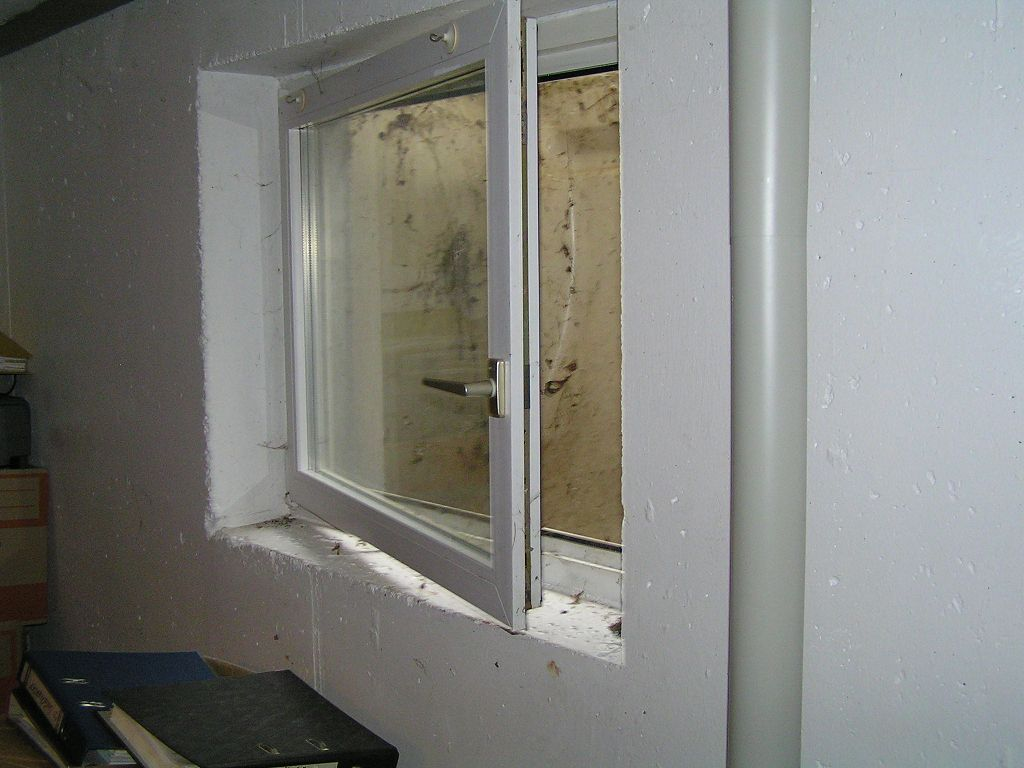windows: (256, 67, 635, 610)
